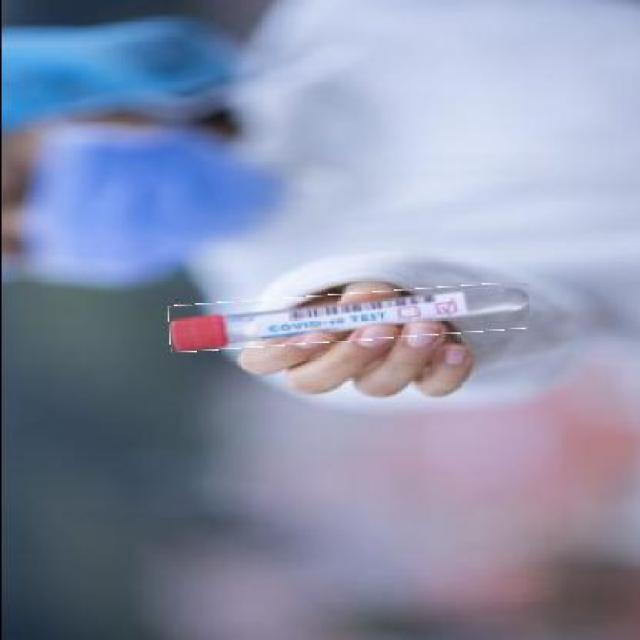Experimental-tube: (168, 287, 529, 345)
